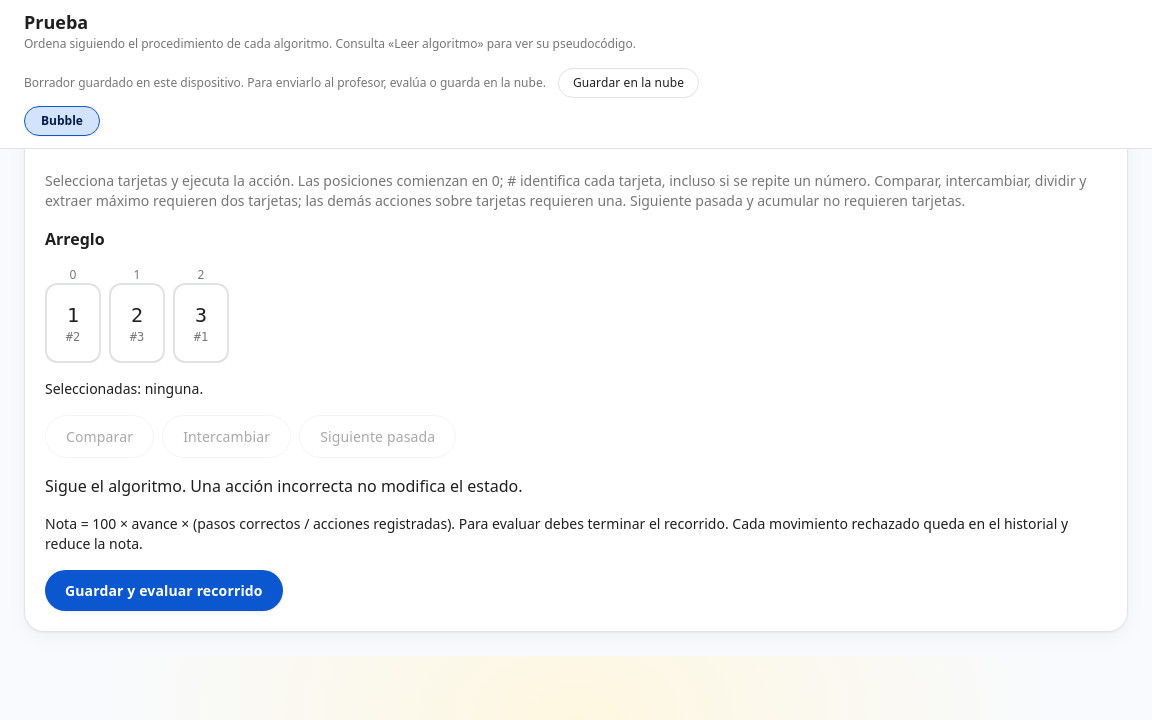
it: un envío fallido mantiene el historial y no consume intentos; el resultado confirmado procede del backend
The image size is (1152, 720).
Later steps or results of the test are not shown.
(page scrolled)
Click the button "Guardar y evaluar recorrido".
click(164, 590)  # box [45,570,283,611]
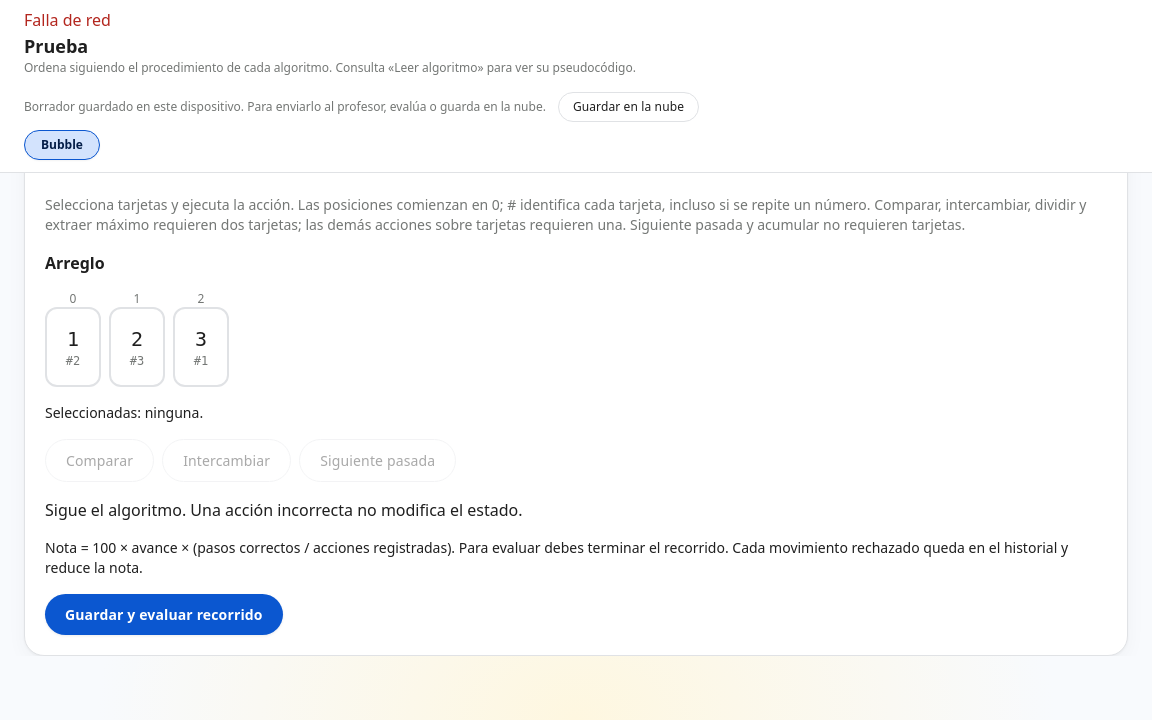
Expected: the message "Falla de red" is shown, [24,9,111,31]
